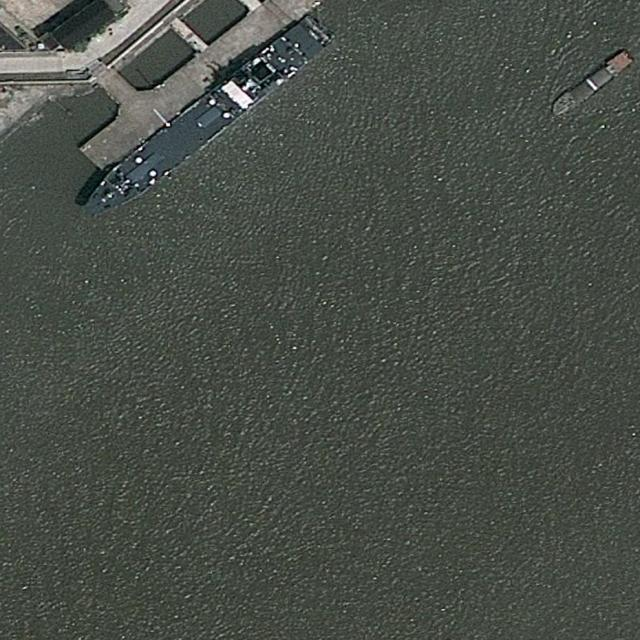Cargo: (546, 47, 636, 119)
Landing: (74, 14, 334, 233)
